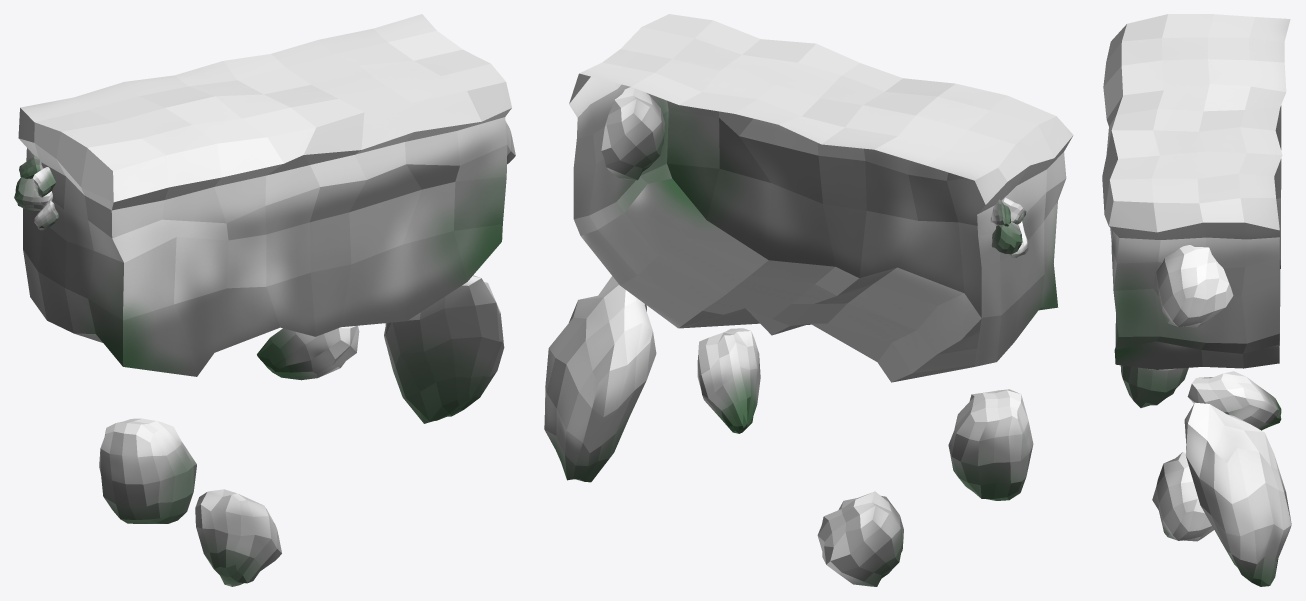
Rendered from WidePlatform04_TEX.FBX.
3 views of the same model, side by side, from view 1: azimuth 30°, elevation 25°; view 2: azimuth 150°, elevation 25°; view 3: azimuth 270°, elevation 25° (orthographic). The views are drawn at different scales.
Visible parts, largest first — view 1: Box035; view 2: Box035; view 3: Box035.
Boxes of the visible parts, x1,y1,x2,y2 form: Box035: (14, 14, 515, 586); Box035: (544, 14, 1073, 586); Box035: (1102, 14, 1291, 586).
Size of the model in its own units: 184 by 179 by 67.37.
1 material, 1 textured.
